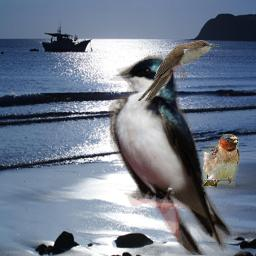Cuckoo: (138, 40, 219, 101)
Swallow: (108, 55, 232, 255), (202, 134, 241, 187)
